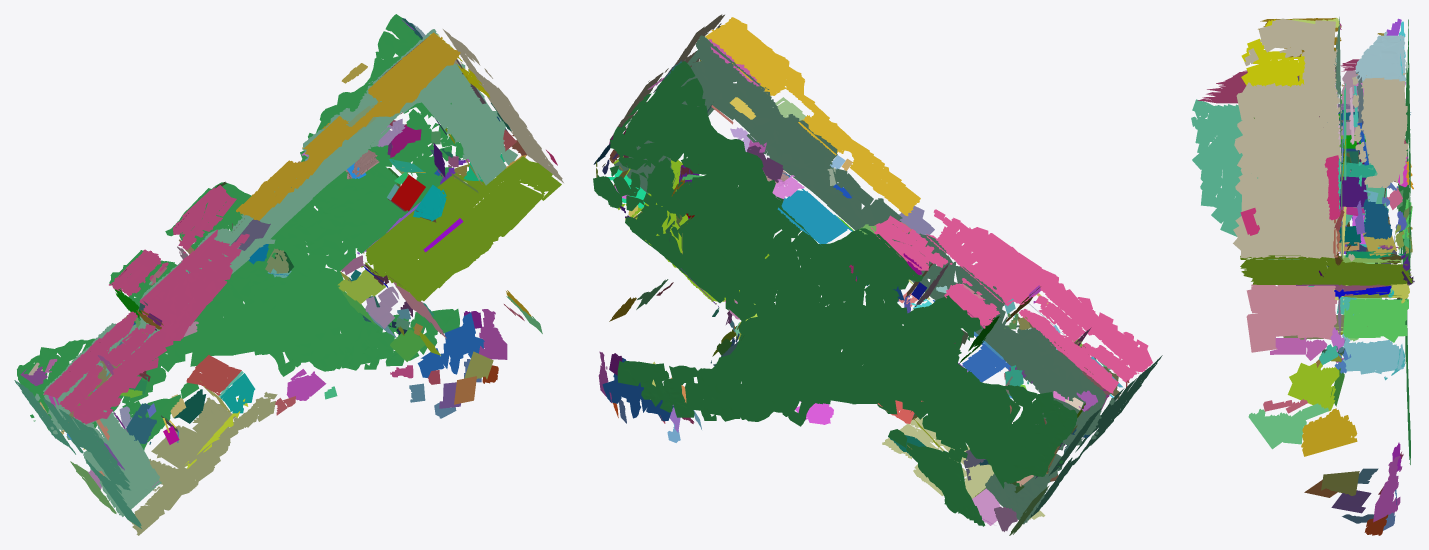
File: planarsplat_scene0131.glb
3 renders of one model, left to right at view 1: azimuth 30°, elevation 25°; view 2: azimuth 150°, elevation 25°; view 3: azimuth 270°, elevation 25°, orthographic. The views are drawn at different scales.
Bounding box in the file's own units: 7.81 × 6.23 × 2.44.
